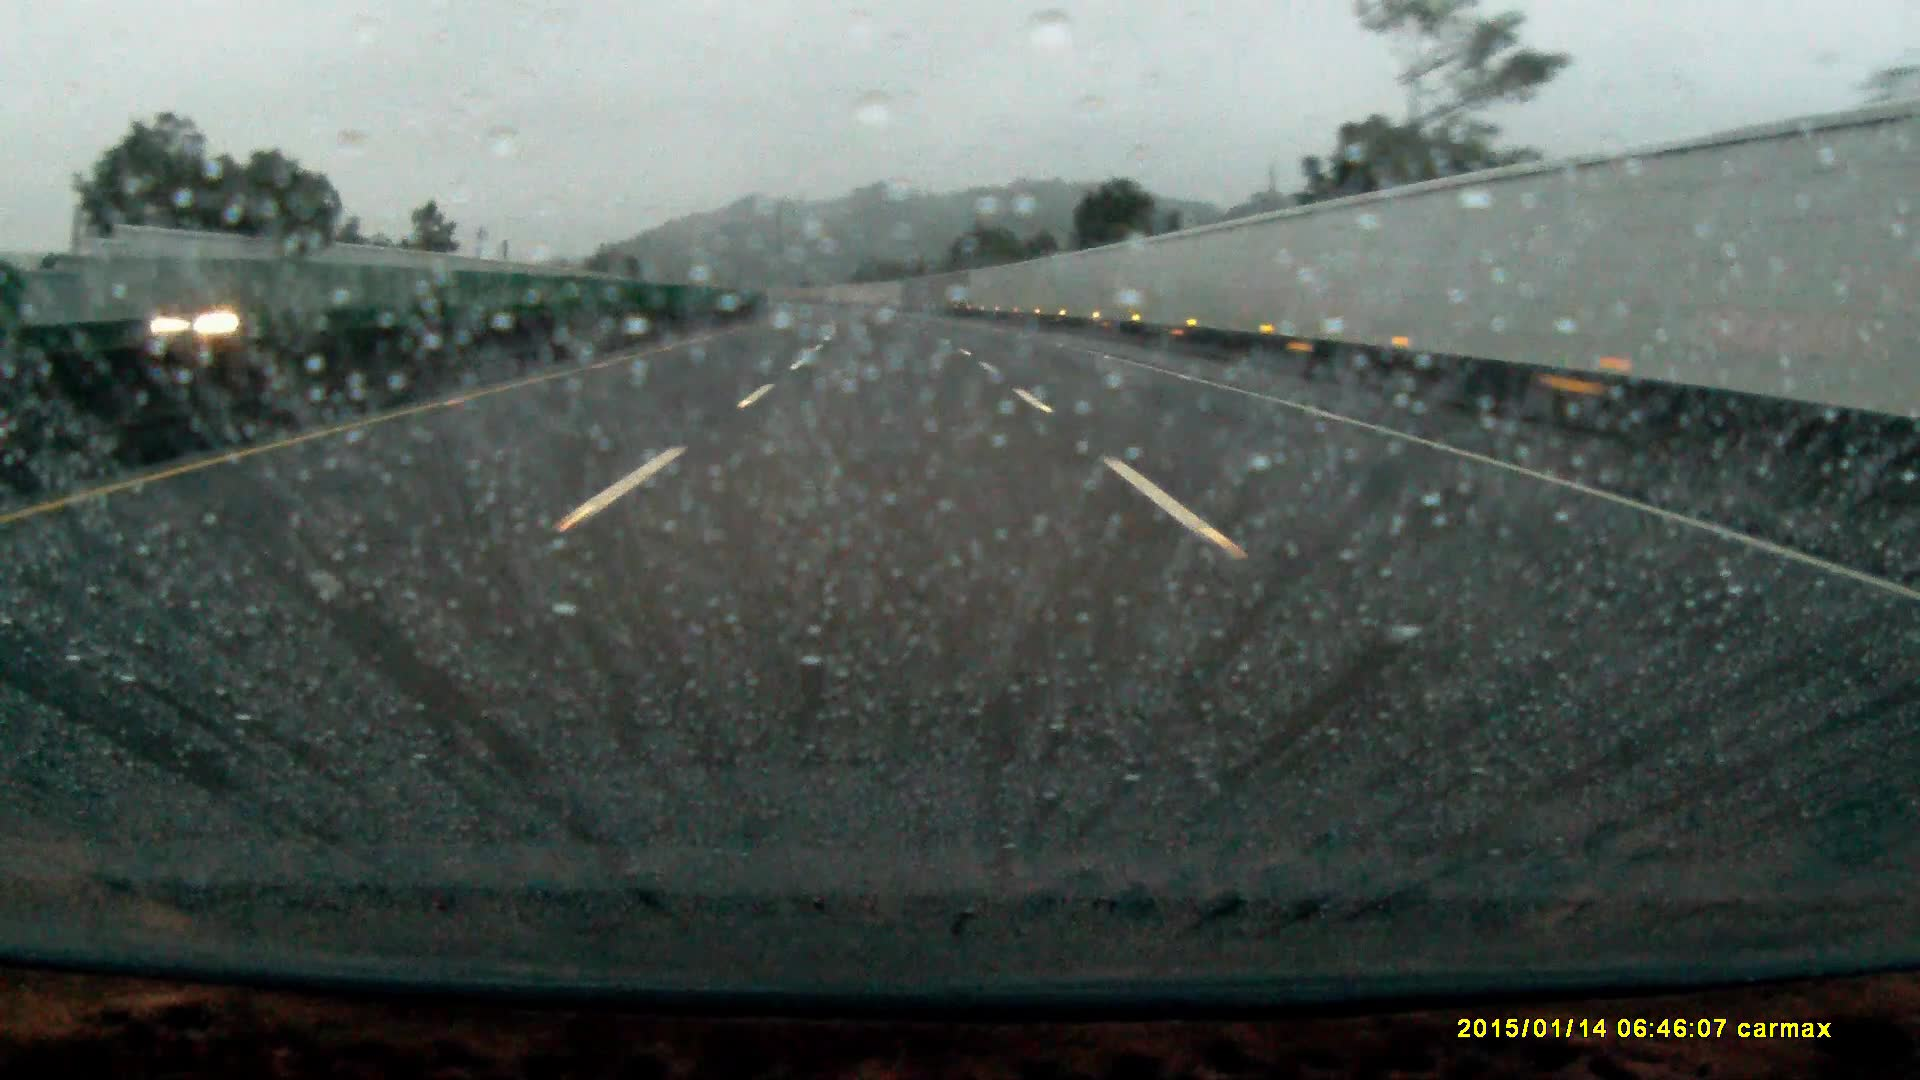vehicle: (142, 291, 295, 345)
